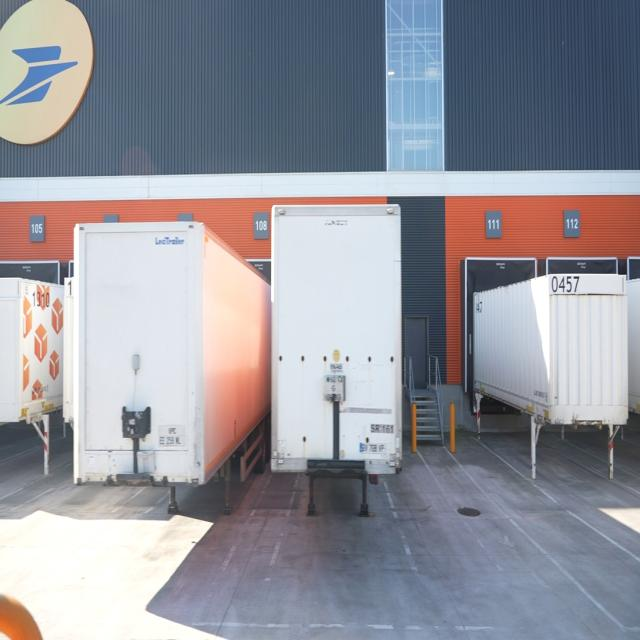Code: (548, 274, 582, 298)
